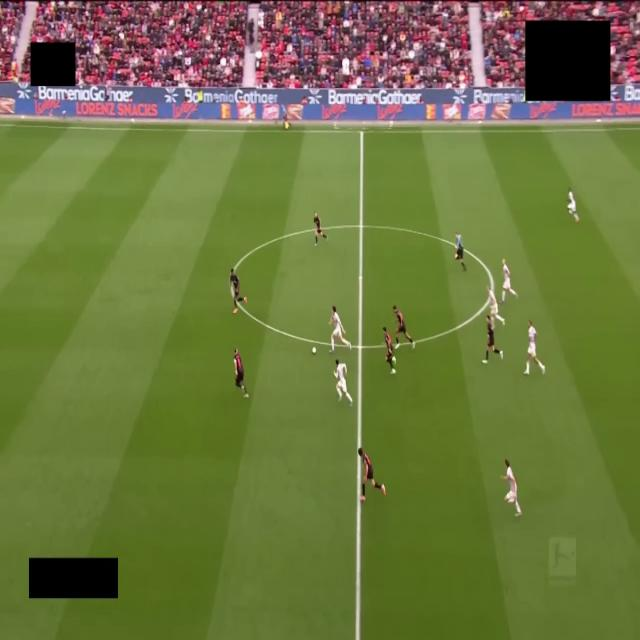ball: (312, 347, 316, 354)
player: (358, 448, 385, 502), (501, 459, 521, 516), (524, 321, 545, 375), (482, 315, 503, 364), (329, 306, 351, 352), (393, 306, 415, 348), (334, 360, 352, 406), (229, 268, 247, 314), (501, 259, 517, 303), (234, 349, 248, 398), (487, 286, 504, 325), (383, 326, 396, 374), (314, 212, 327, 246), (568, 188, 579, 223)
referee: (455, 232, 466, 271)
